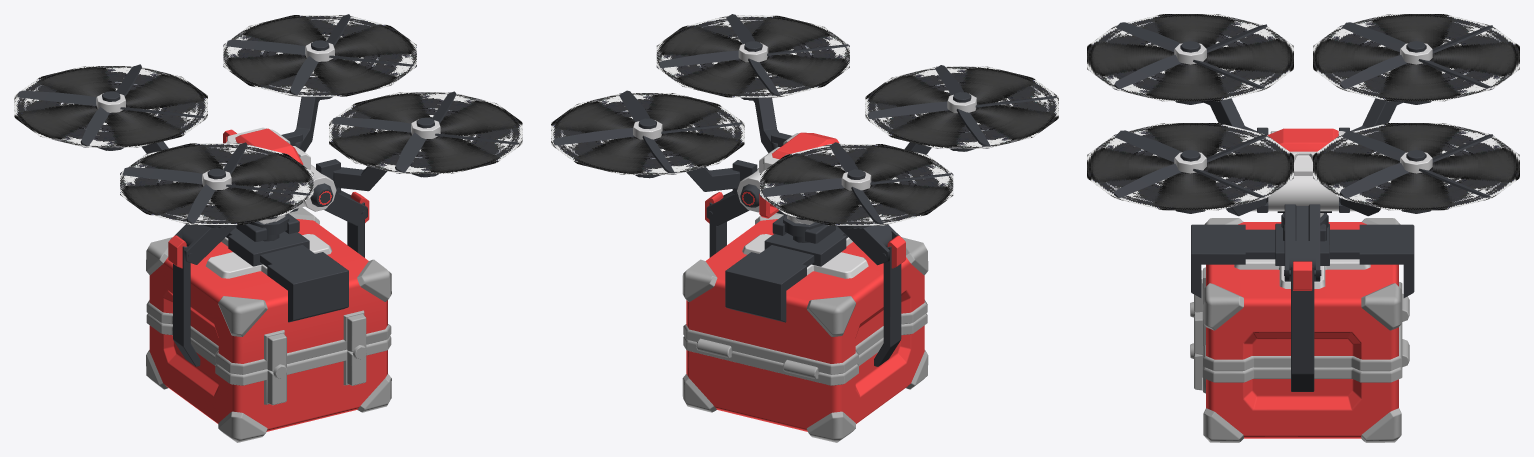
File: Heal_Dron.fbx
The picture shows the model from 3 angles, left to right: view 1: azimuth 30°, elevation 25°; view 2: azimuth 150°, elevation 25°; view 3: azimuth 270°, elevation 25°; orthographic projection. The views are drawn at different scales.
Visible parts, largest first — view 1: Ayane_Original_Healdrone_Outline; view 2: Ayane_Original_Healdrone_Outline; view 3: Ayane_Original_Healdrone_Outline.
Boxes of the visible parts, <box> form: Ayane_Original_Healdrone_Outline: <box>14,14,522,442</box>; Ayane_Original_Healdrone_Outline: <box>551,14,1058,442</box>; Ayane_Original_Healdrone_Outline: <box>1087,14,1519,442</box>.
Size of the model in its own units: 0.9882 by 0.7144 by 0.9203.
